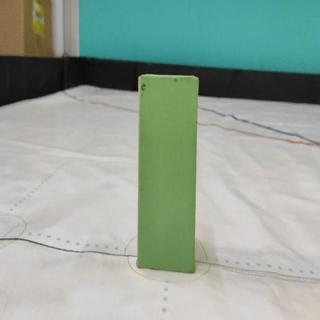greenbox: (139, 74, 197, 275)
